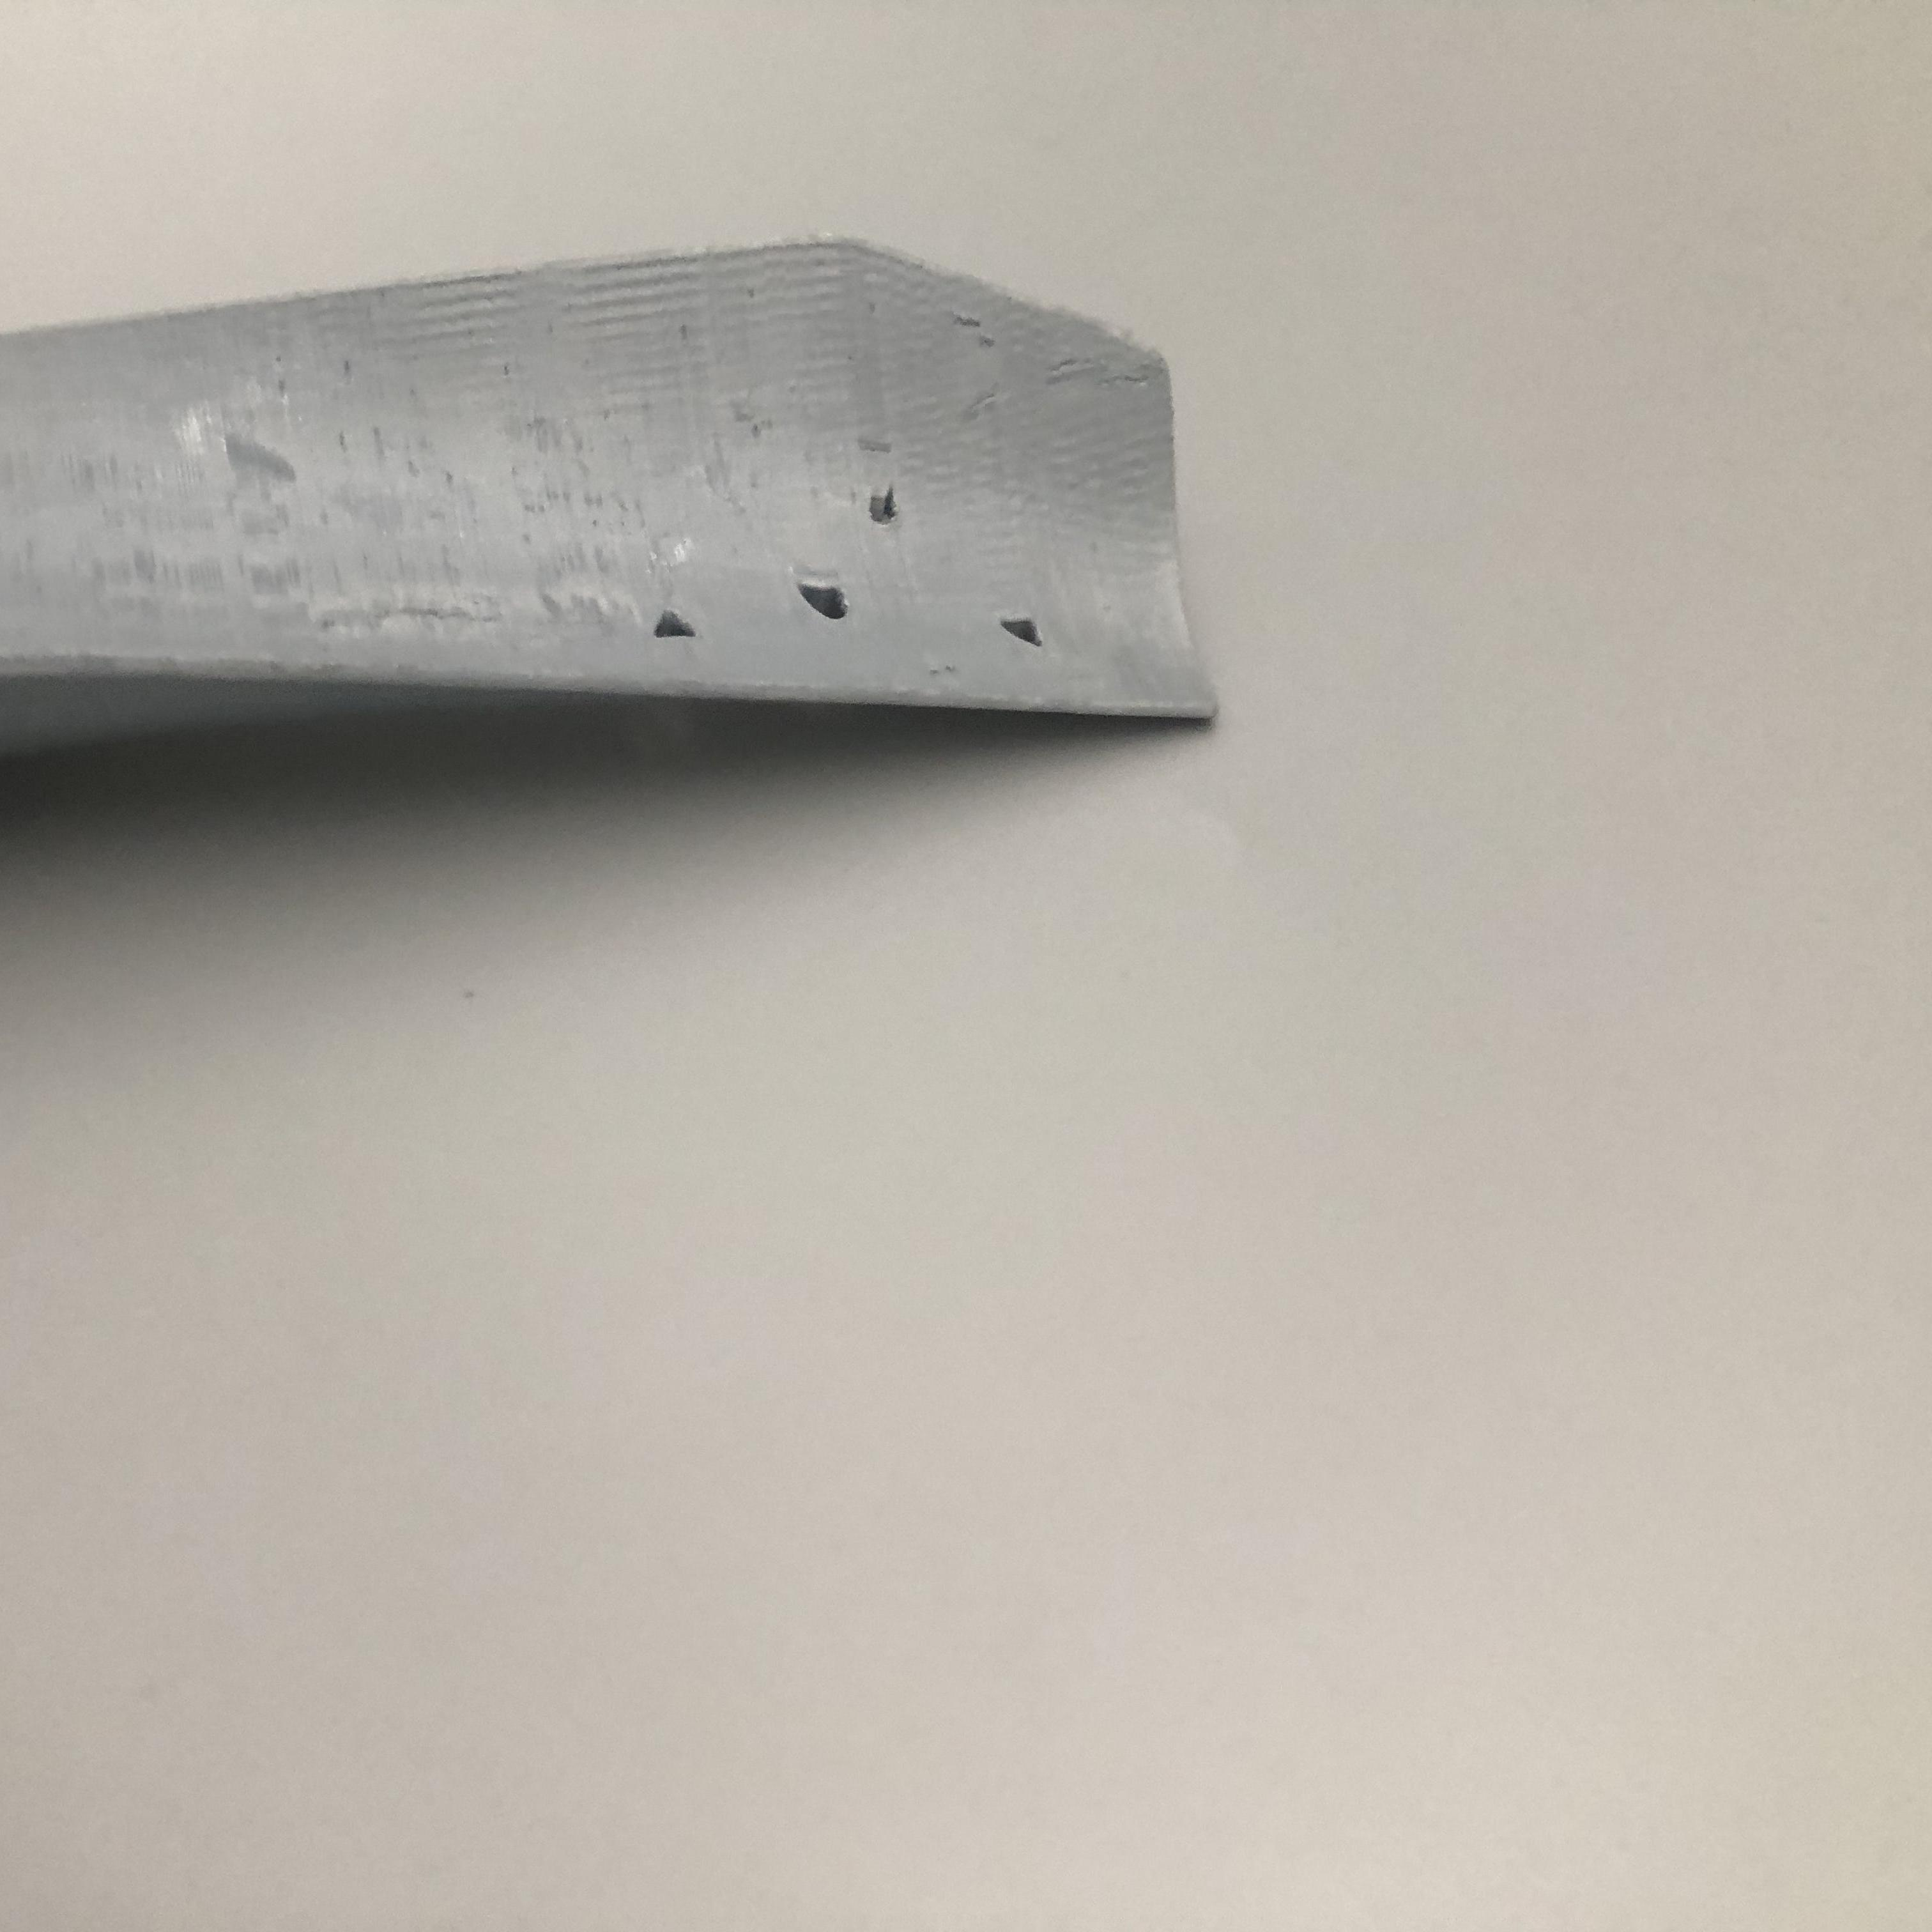breakdown: (649, 492, 920, 649), (1003, 609, 1063, 655)
